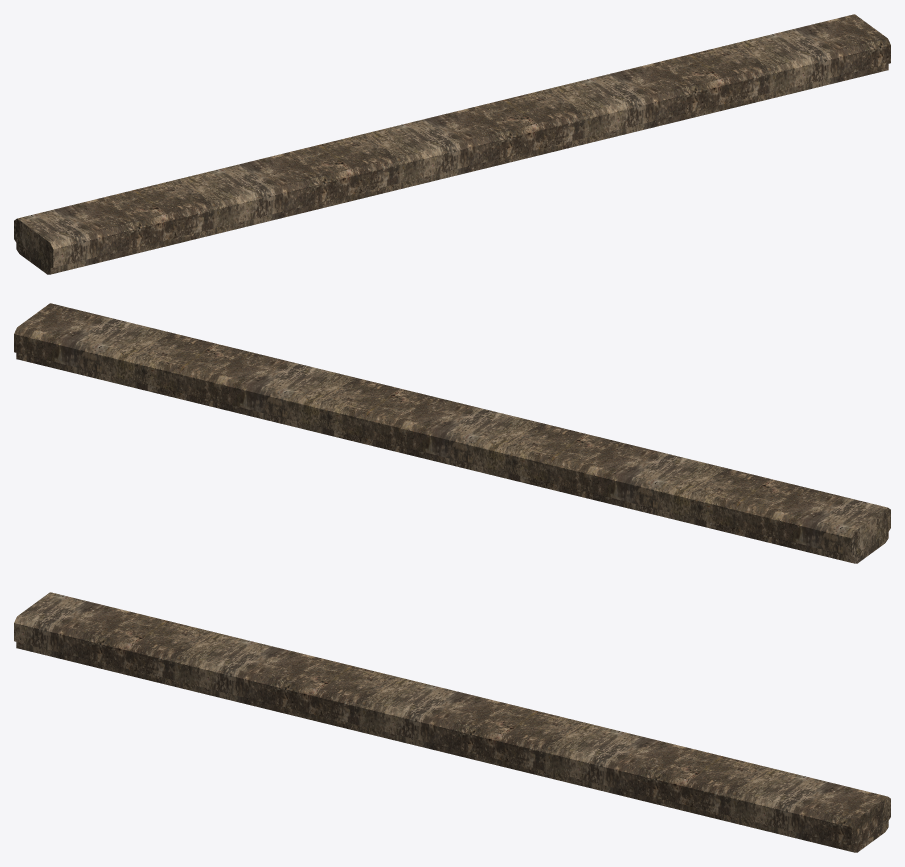
The model's file is materials_5_stonestick_long_6.fbx.
The picture shows the model from 3 angles, top to bottom: view 1: azimuth 30°, elevation 25°; view 2: azimuth 150°, elevation 25°; view 3: azimuth 330°, elevation 25°; orthographic projection.
Parts seen in each view (by area): view 1: materials_5_stonestick_long_6; view 2: materials_5_stonestick_long_6; view 3: materials_5_stonestick_long_6.
Part boxes in pixels (<box>): materials_5_stonestick_long_6: <box>14,14,890,274</box>; materials_5_stonestick_long_6: <box>14,303,890,563</box>; materials_5_stonestick_long_6: <box>14,592,890,852</box>.
Bounding box in the file's own units: 512 × 19.77 × 41.61.
